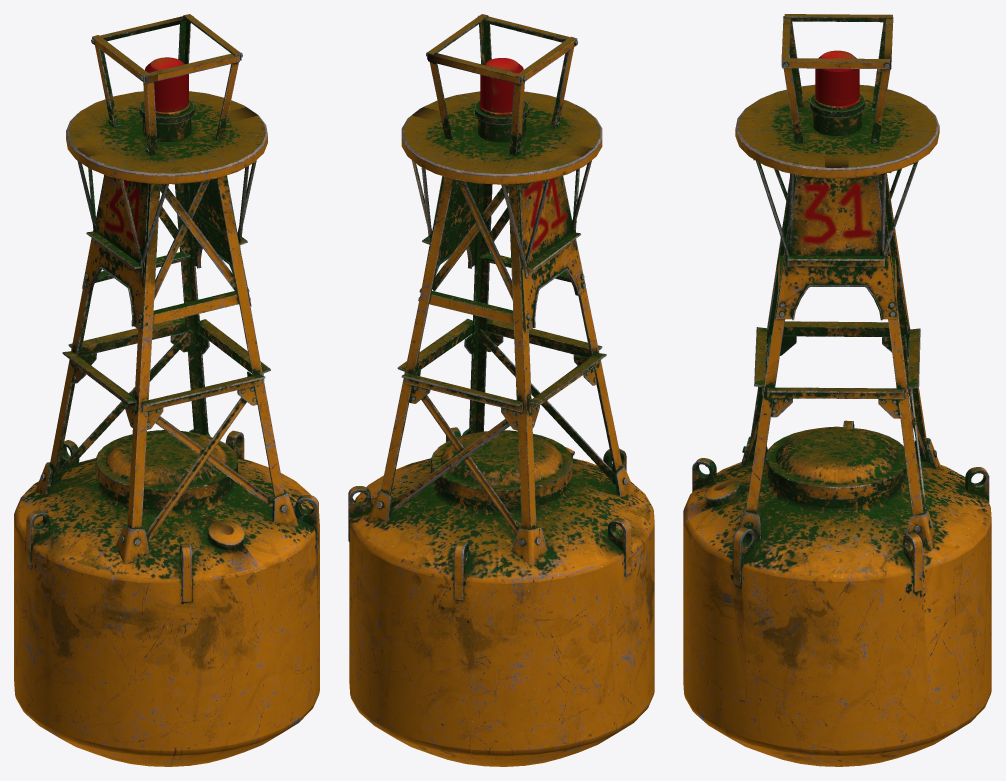
The model's file is buoy.glb.
3 renders of one model, left to right at view 1: azimuth 30°, elevation 25°; view 2: azimuth 150°, elevation 25°; view 3: azimuth 270°, elevation 25°, orthographic.
Visible parts, largest first — view 1: buoy; view 2: buoy; view 3: buoy.
Part boxes in pixels (bbox=[...]): buoy: bbox=[14, 14, 319, 766]; buoy: bbox=[348, 14, 654, 766]; buoy: bbox=[683, 14, 991, 766].
Bounding box in the file's own units: 2 × 5.06 × 1.99.
1 material, 1 textured.
